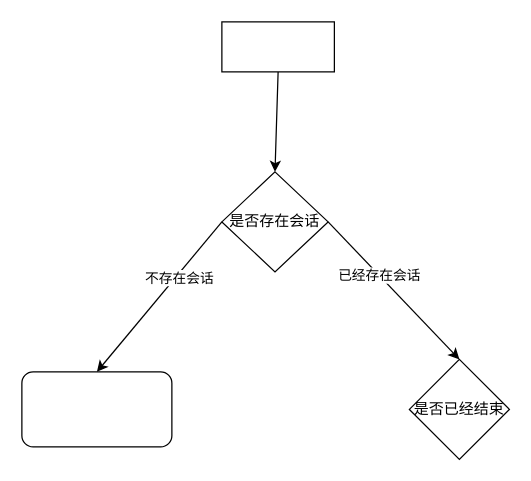
The diagram is 531 pixels wide and 481 high, and some of its shapes have lost their labels. The shapes that lost their labels are listed below. From the top down, each one's box as (x1, y1, x2, y2) in pixels, then its label:
(221, 21, 334, 72): 访客
(21, 371, 172, 447): 创建会话
